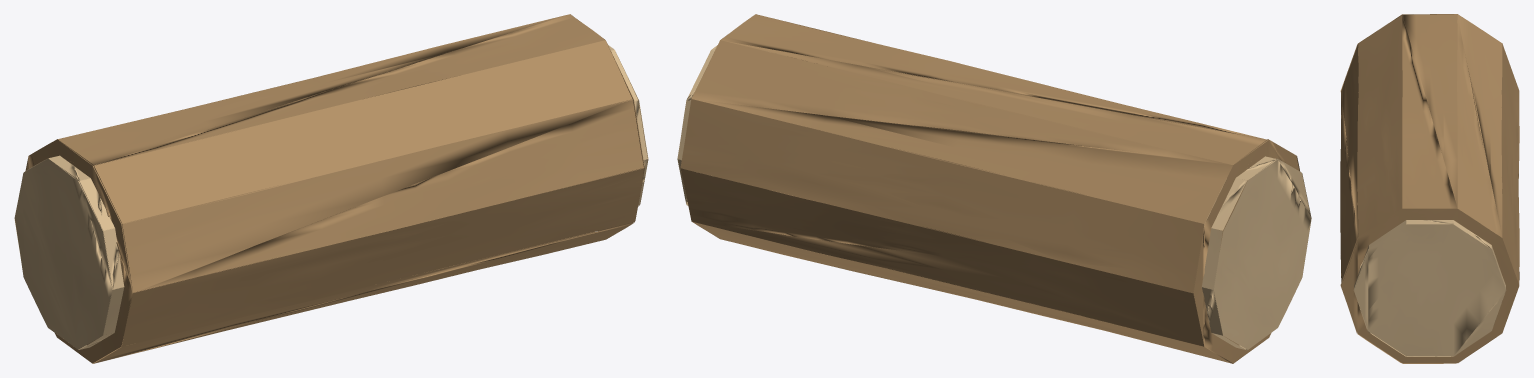
Rendered from log.glb.
3 views of the same model, side by side, from view 1: azimuth 30°, elevation 25°; view 2: azimuth 150°, elevation 25°; view 3: azimuth 270°, elevation 25° (orthographic). The views are drawn at different scales.
Visible parts, largest first — view 1: Log; view 2: Log; view 3: Log.
Part boxes in pixels (bbox=[...]): Log: bbox=[14, 14, 648, 363]; Log: bbox=[677, 14, 1311, 363]; Log: bbox=[1340, 14, 1519, 363].
Bounding box in the file's own units: 1.84 × 0.6529 × 0.6819.
